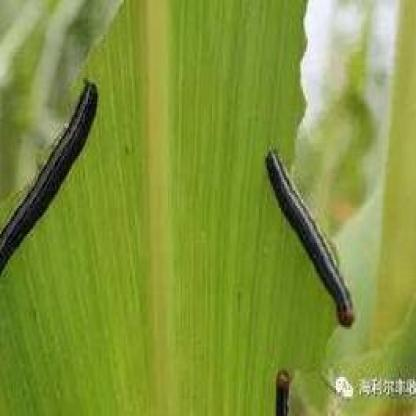armyworm: (0, 75, 102, 268), (263, 146, 358, 328), (270, 364, 301, 416)
